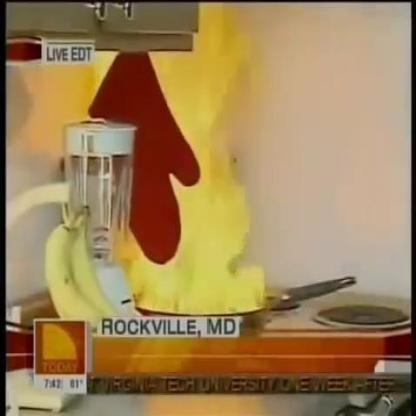fire: (137, 51, 267, 310)
